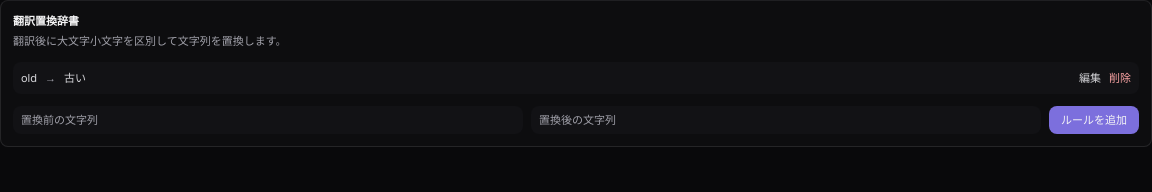
Test: DictionaryPanel REQ-334 › keeps draft fields and shows the failure reason when full-list persistence fails
Check: the text "old" is shown, box left=21, top=70, right=37, bottom=86
In the field labelled "置換前": x=268, y=120 left=13, top=106, right=523, bottom=134, type "draft term"
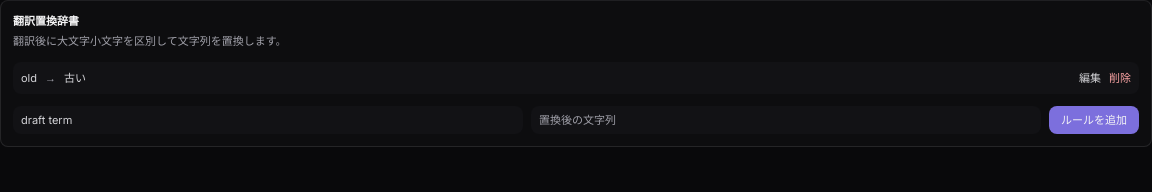
In the field labelled "置換後": x=786, y=120 left=531, top=106, right=1041, bottom=134, type "draft value"
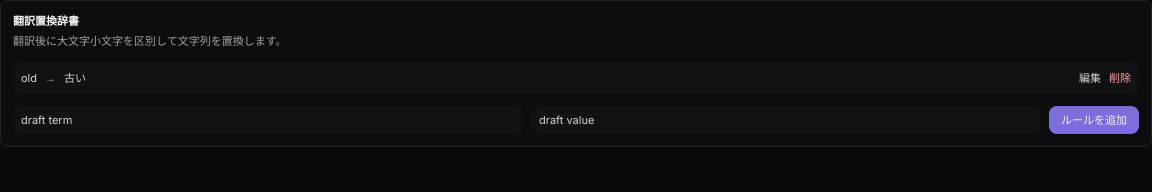
Click the button "ルールを追加": x=1094, y=120 left=1049, top=106, right=1139, bottom=134
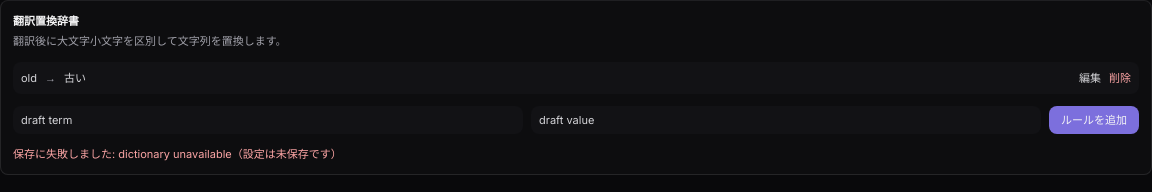
Check: the message shows "dictionary unavailable", box left=118, top=146, right=232, bottom=160
Check: the message shows "設定は未保存です", box left=232, top=146, right=342, bottom=160
